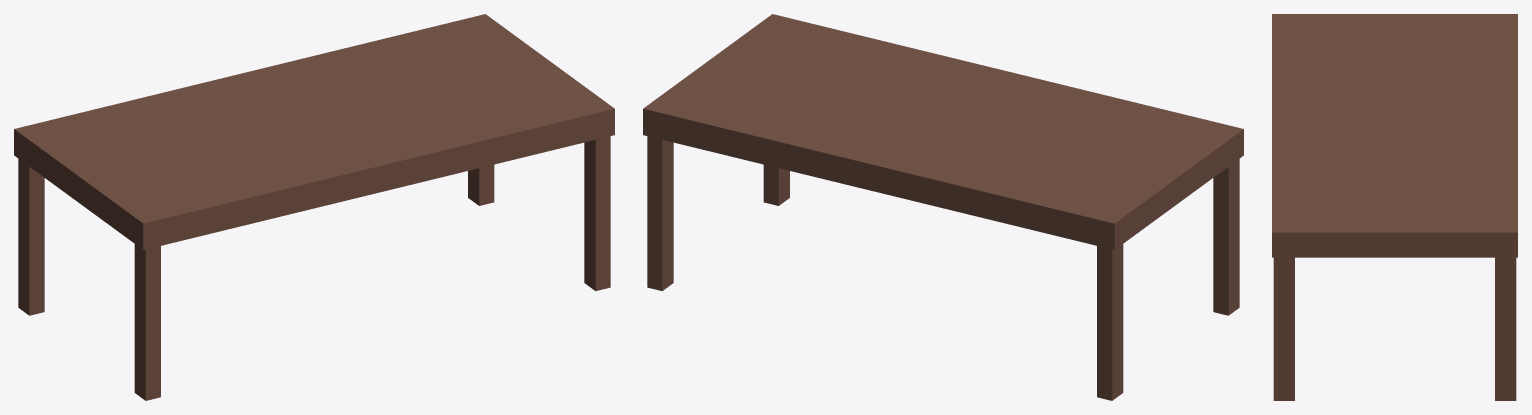
Rendered from Table.fbx.
3 views of the same model, side by side, from view 1: azimuth 30°, elevation 25°; view 2: azimuth 150°, elevation 25°; view 3: azimuth 270°, elevation 25° (orthographic). The views are drawn at different scales.
Parts seen in each view (by area): view 1: Table; view 2: Table; view 3: Table.
Part boxes in pixels (bbox=[...]): Table: bbox=[14, 14, 614, 400]; Table: bbox=[643, 14, 1243, 400]; Table: bbox=[1272, 14, 1517, 400].
Size of the model in its own units: 421 by 152 by 200.
